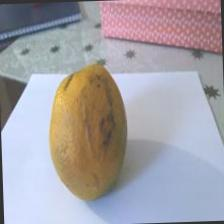Orange Rotten: (39, 50, 147, 210)
